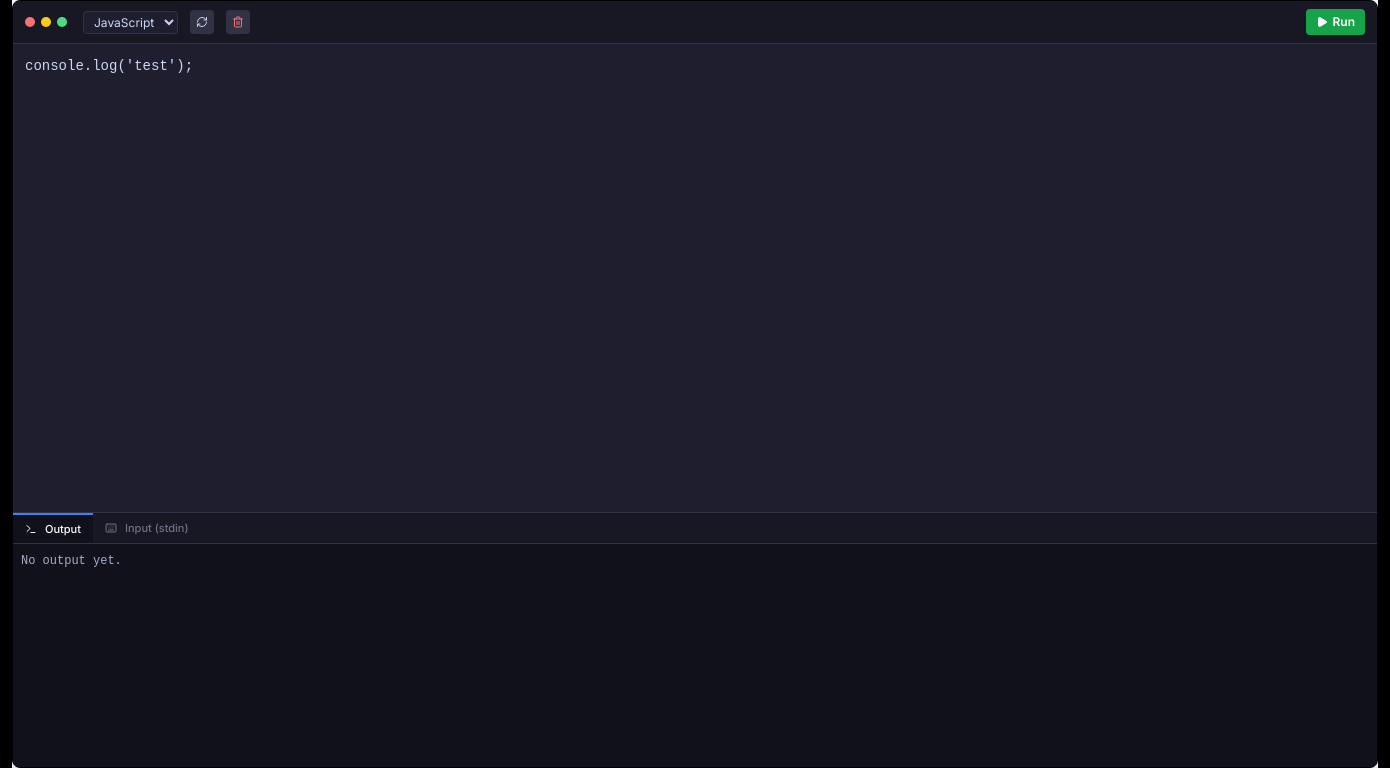
Test: CodeBlockElement › switches to input tab when clicked
Click the button "Input (stdin)": (147, 528) [93, 513, 201, 543]
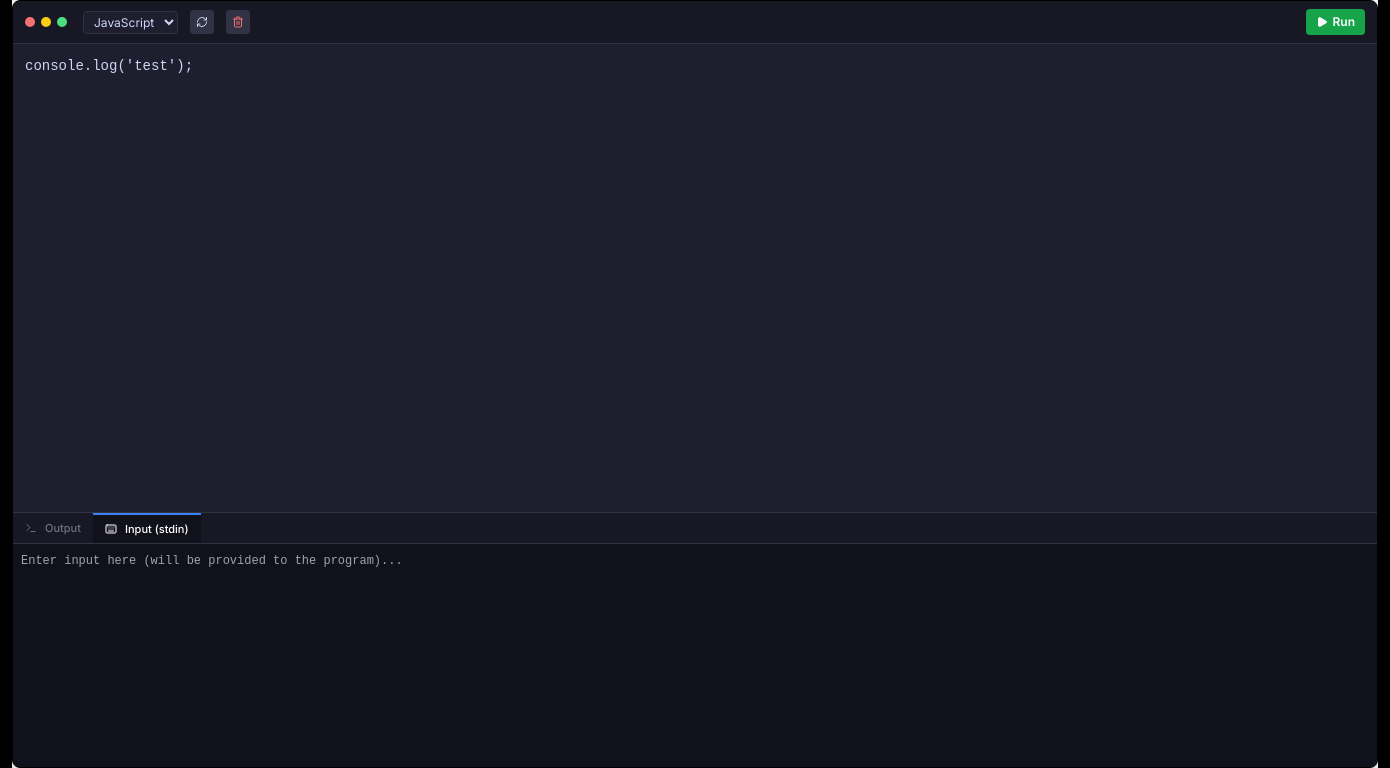
Now the text box with placeholder "Enter input here (will be provided to the program)..." is shown, box [13, 544, 1377, 767]
